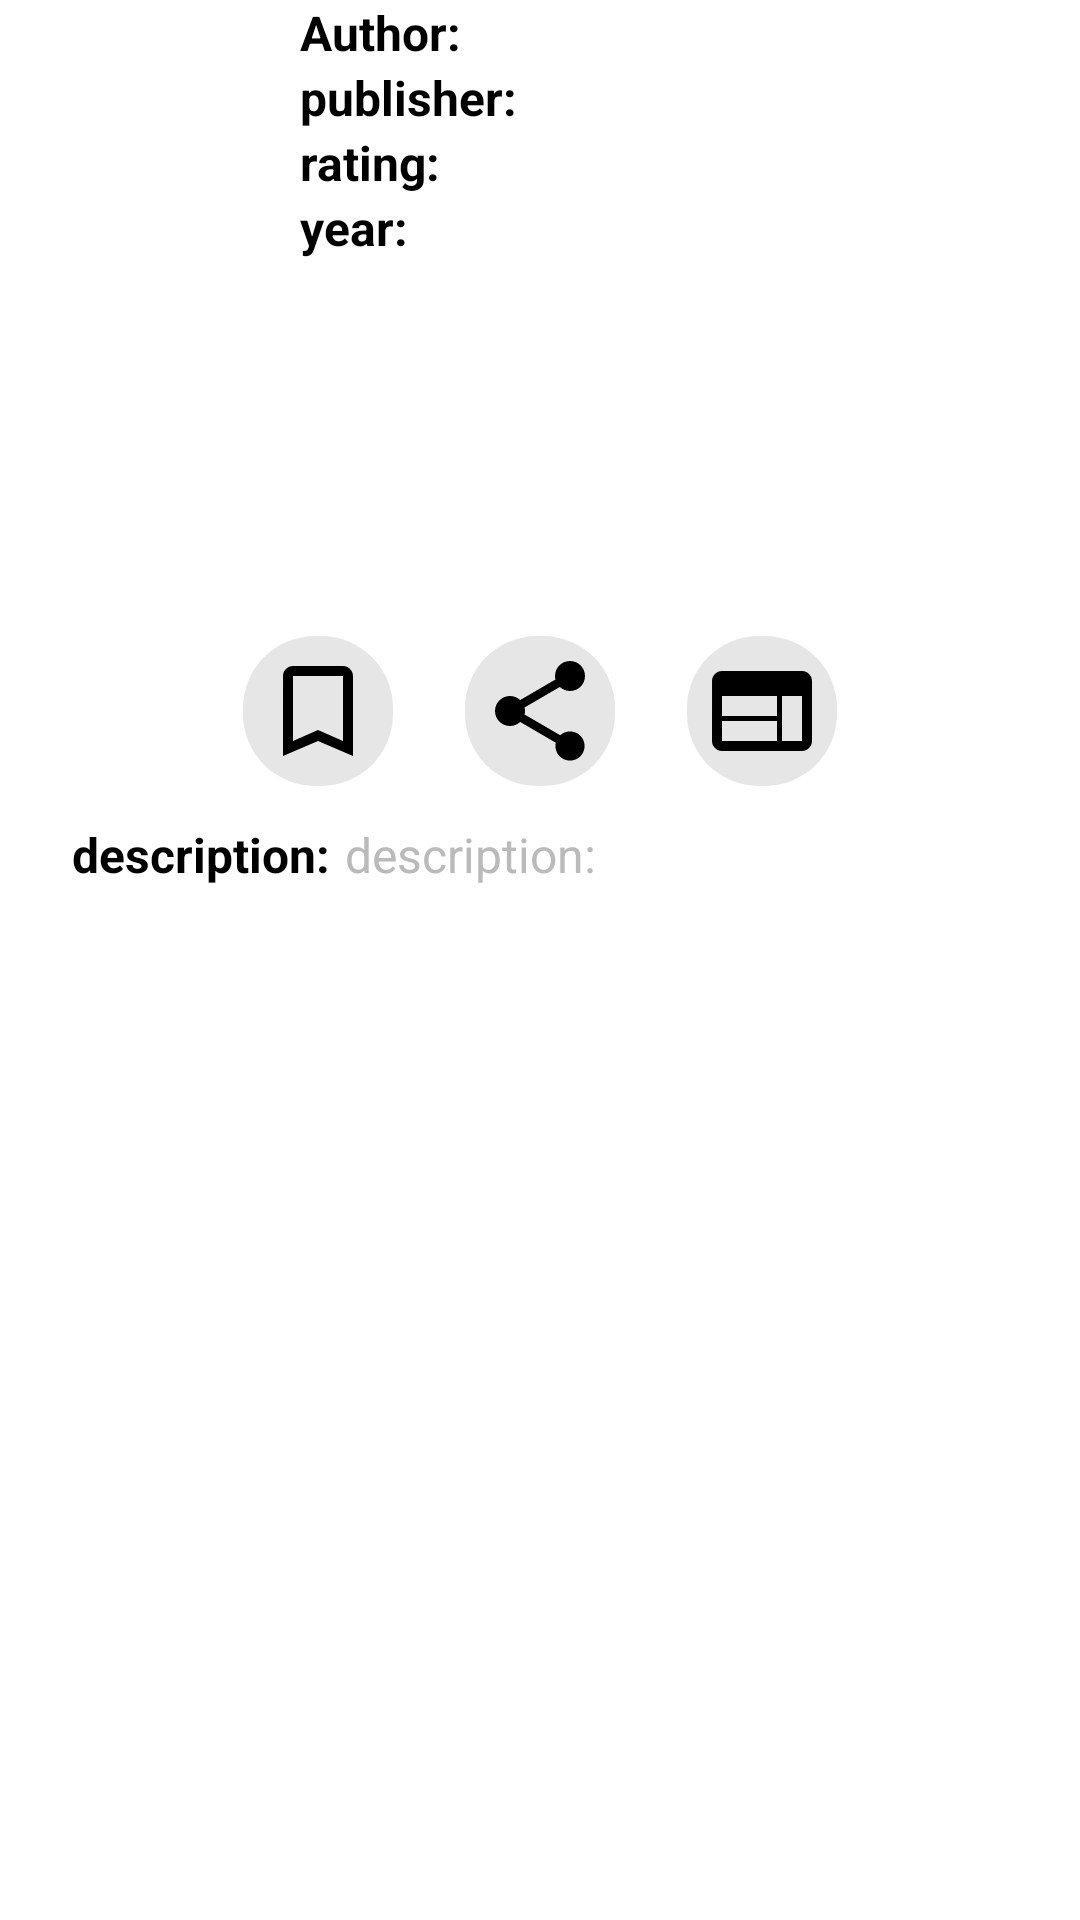

Named icons in this screenshot (1080*1920) and their bounding boxes, (x1, y1, x2, y2):
bookmark border: (243, 636, 393, 786)
share: (465, 636, 615, 786)
web: (687, 636, 837, 786)
